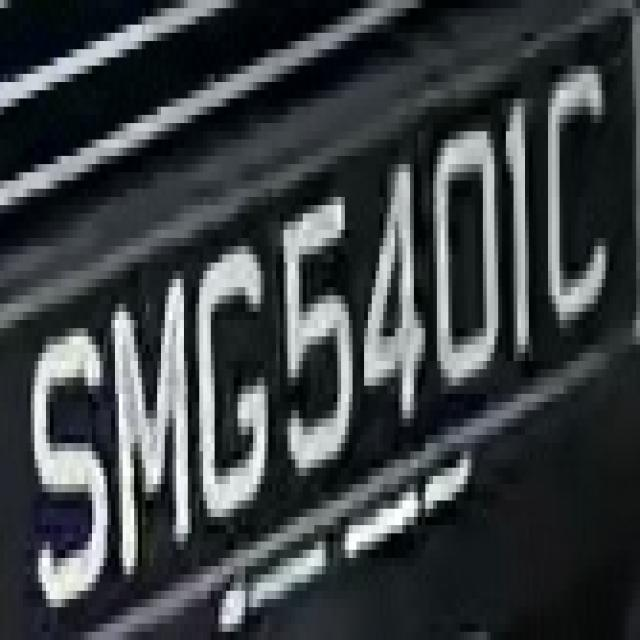0: (425, 115, 502, 386)
1: (494, 74, 540, 377)
4: (341, 132, 429, 460)
5: (272, 172, 353, 484)
C: (537, 49, 613, 369)
G: (184, 222, 276, 542)
M: (111, 262, 196, 590)
S: (23, 312, 111, 615)
